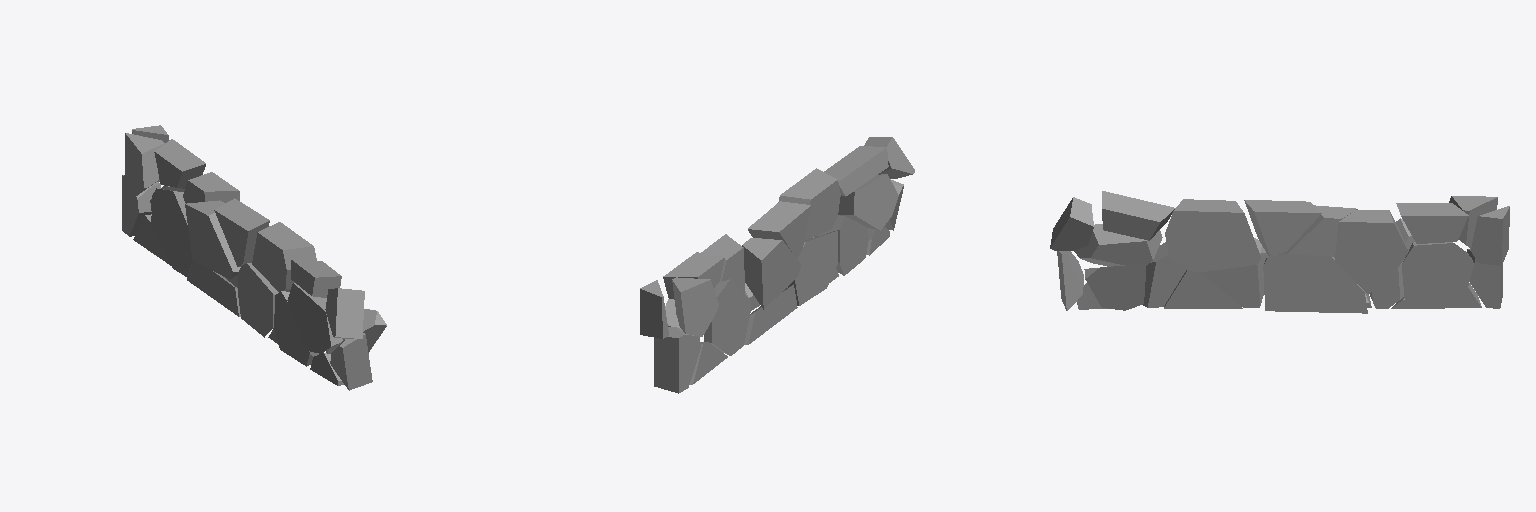
File: BreakWallLarge_000005.obj
3 renders of one model, left to right at view 1: azimuth 30°, elevation 25°; view 2: azimuth 150°, elevation 25°; view 3: azimuth 270°, elevation 25°, orthographic.
Parts seen in each view (by area): view 1: Cube.057_cell.018_Cube.057_cell.017, Cube.057_cell.017_Cube.057_cell.016, Cube.057_cell.014_Cube.057_cell.013, Cube.057_cell_Cube.057_cell.022, Cube.057_cell.013_Cube.057_cell.012, Cube.057_cell.021_Cube.057_cell.020, Cube.057_cell.001_Cube.057_cell.000, Cube.057_cell.015_Cube.057_cell.014, Cube.057_cell.016_Cube.057_cell.015, Cube.057_cell.008_Cube.057_cell.007, Cube.057_cell.010_Cube.057_cell.009, Cube.057_cell.011_Cube.057_cell.010 (+6 smaller); view 2: Cube.057_cell.017_Cube.057_cell.016, Cube.057_cell.003_Cube.057_cell.002, Cube.057_cell.014_Cube.057_cell.013, Cube.057_cell.018_Cube.057_cell.017, Cube.057_cell.013_Cube.057_cell.012, Cube.057_cell.021_Cube.057_cell.020, Cube.057_cell.001_Cube.057_cell.000, Cube.057_cell_Cube.057_cell.022, Cube.057_cell.011_Cube.057_cell.010, Cube.057_cell.010_Cube.057_cell.009, Cube.057_cell.019_Cube.057_cell.018, Cube.057_cell.009_Cube.057_cell.008 (+4 smaller); view 3: Cube.057_cell.018_Cube.057_cell.017, Cube.057_cell.004_Cube.057_cell.003, Cube.057_cell.020_Cube.057_cell.019, Cube.057_cell.012_Cube.057_cell.011, Cube.057_cell_Cube.057_cell.022, Cube.057_cell.011_Cube.057_cell.010, Cube.057_cell.007_Cube.057_cell.006, Cube.057_cell.021_Cube.057_cell.020, Cube.057_cell.016_Cube.057_cell.015, Cube.057_cell.013_Cube.057_cell.012, Cube.057_cell.019_Cube.057_cell.018, Cube.057_cell.002_Cube.057_cell.001 (+8 smaller).
Boxes of the visible parts, <box> form: Cube.057_cell.018_Cube.057_cell.017: <box>252,222,316,291</box>; Cube.057_cell.017_Cube.057_cell.016: <box>185,200,240,279</box>; Cube.057_cell.014_Cube.057_cell.013: <box>151,188,192,277</box>; Cube.057_cell_Cube.057_cell.022: <box>214,198,269,266</box>; Cube.057_cell.013_Cube.057_cell.012: <box>238,263,278,337</box>; Cube.057_cell.021_Cube.057_cell.020: <box>287,283,342,353</box>; Cube.057_cell.001_Cube.057_cell.000: <box>124,133,164,197</box>; Cube.057_cell.015_Cube.057_cell.014: <box>325,288,364,338</box>; Cube.057_cell.016_Cube.057_cell.015: <box>154,139,205,188</box>; Cube.057_cell.008_Cube.057_cell.007: <box>330,333,372,390</box>; Cube.057_cell.010_Cube.057_cell.009: <box>274,291,318,366</box>; Cube.057_cell.011_Cube.057_cell.010: <box>291,259,341,297</box>; Cube.057_cell.017_Cube.057_cell.016: <box>742,238,800,309</box>; Cube.057_cell.003_Cube.057_cell.002: <box>654,327,700,393</box>; Cube.057_cell.014_Cube.057_cell.013: <box>704,279,750,355</box>; Cube.057_cell.018_Cube.057_cell.017: <box>778,168,840,240</box>; Cube.057_cell.013_Cube.057_cell.012: <box>785,231,837,305</box>; Cube.057_cell.021_Cube.057_cell.020: <box>838,174,898,230</box>; Cube.057_cell.001_Cube.057_cell.000: <box>672,277,718,336</box>; Cube.057_cell_Cube.057_cell.022: <box>748,201,810,258</box>; Cube.057_cell.011_Cube.057_cell.010: <box>824,146,888,196</box>; Cube.057_cell.010_Cube.057_cell.009: <box>815,215,867,275</box>; Cube.057_cell.019_Cube.057_cell.018: <box>640,280,668,338</box>; Cube.057_cell.009_Cube.057_cell.008: <box>744,284,797,344</box>; Cube.057_cell.018_Cube.057_cell.017: <box>1165,199,1260,271</box>; Cube.057_cell.004_Cube.057_cell.003: <box>1263,254,1367,313</box>; Cube.057_cell.020_Cube.057_cell.019: <box>1335,210,1408,294</box>; Cube.057_cell.012_Cube.057_cell.011: <box>1402,242,1473,305</box>; Cube.057_cell_Cube.057_cell.022: <box>1244,200,1321,256</box>; Cube.057_cell.011_Cube.057_cell.010: <box>1102,191,1174,240</box>; Cube.057_cell.007_Cube.057_cell.006: <box>1084,264,1146,310</box>; Cube.057_cell.021_Cube.057_cell.020: <box>1074,224,1162,266</box>; Cube.057_cell.016_Cube.057_cell.015: <box>1396,203,1468,243</box>; Cube.057_cell.013_Cube.057_cell.012: <box>1201,238,1268,307</box>; Cube.057_cell.019_Cube.057_cell.018: <box>1471,206,1509,265</box>; Cube.057_cell.002_Cube.057_cell.001: <box>1164,271,1242,308</box>.
Bounding box in the file's own units: 10.27 × 14.57 × 59.86.